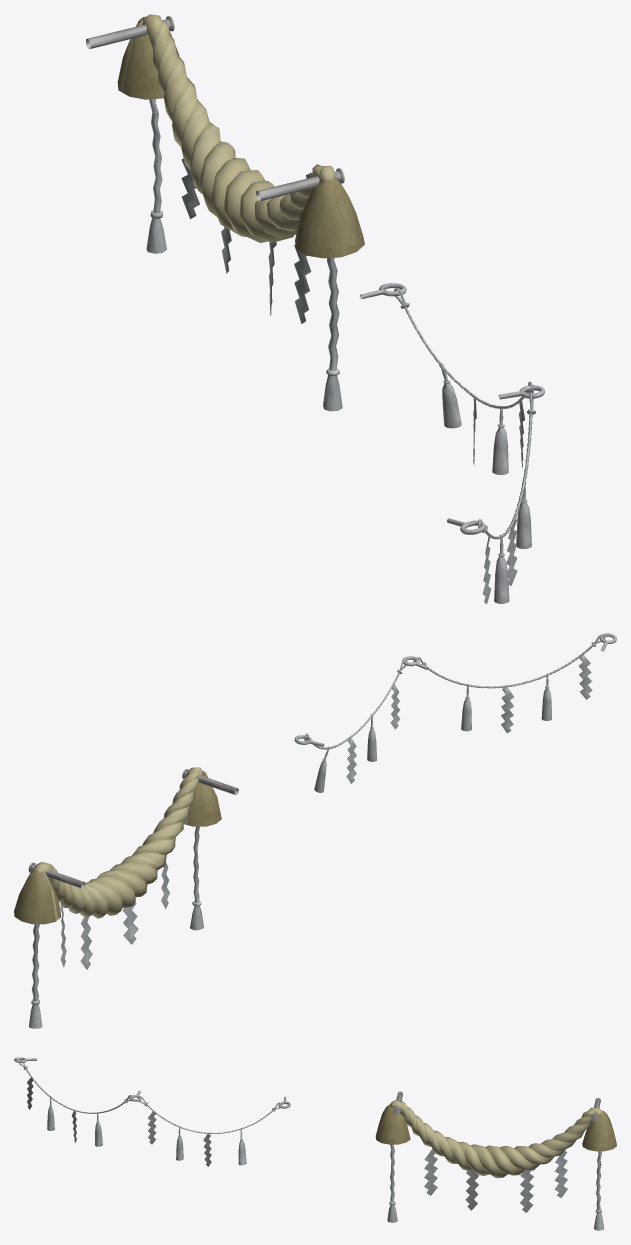
File: SM_ENV_KNFRST_StrawRope_GroupC.FBX
3 views of the same model, one above another, from view 1: azimuth 30°, elevation 25°; view 2: azimuth 150°, elevation 25°; view 3: azimuth 270°, elevation 25° (orthographic). The views are drawn at different scales.
Parts seen in each view (by area): view 1: SM_ENV_KNFRST_StrawRope_GroupC; view 2: SM_ENV_KNFRST_StrawRope_GroupC; view 3: SM_ENV_KNFRST_StrawRope_GroupC.
Boxes of the visible parts, x1,y1,x2,y2 form: SM_ENV_KNFRST_StrawRope_GroupC: (86,14,544,604); SM_ENV_KNFRST_StrawRope_GroupC: (14,633,616,1028); SM_ENV_KNFRST_StrawRope_GroupC: (14,1057,616,1230).
Size of the model in its own units: 1063 by 820 by 3701.
